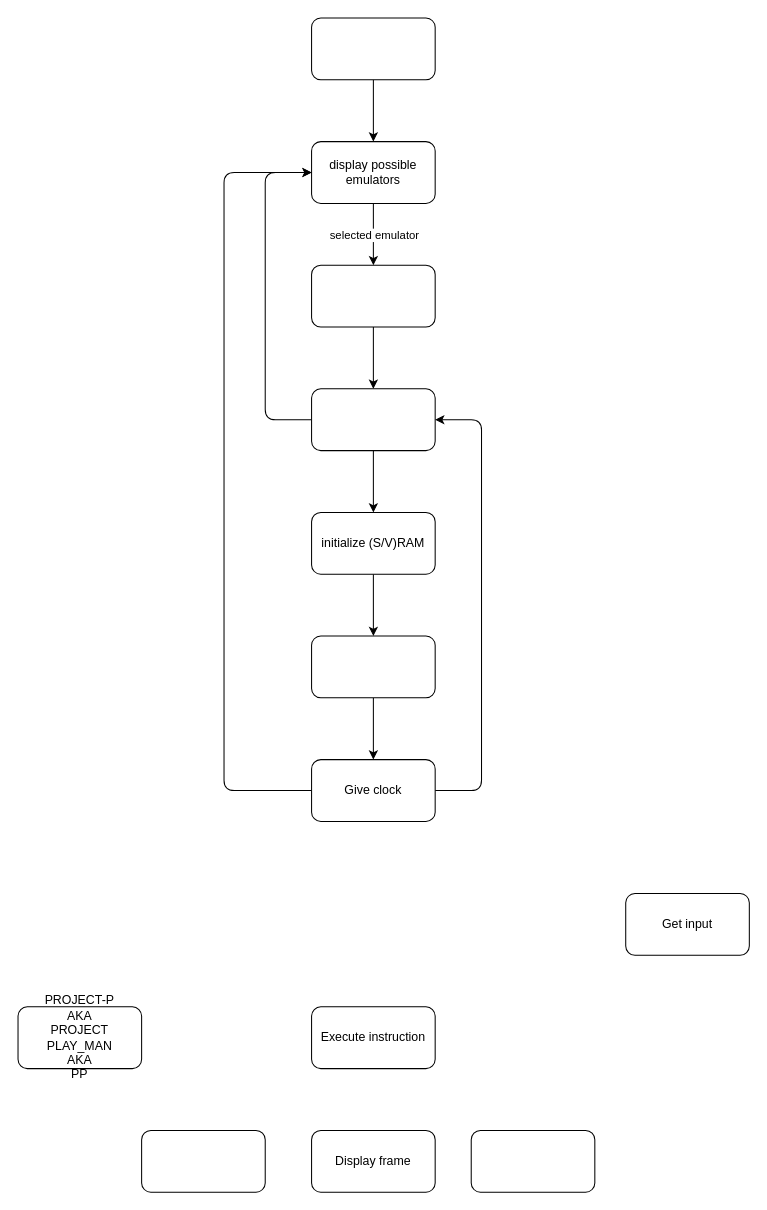
Some shapes in this 767 by 1210 pixel diagram are drawn without their labels. Each missing label, with the centre of its shape:
"Initialize virtual CPU" goes at (373,295).
"play-man entry" goes at (373,48).
"select ROM" goes at (373,419).
"start CPU" goes at (373,666).
